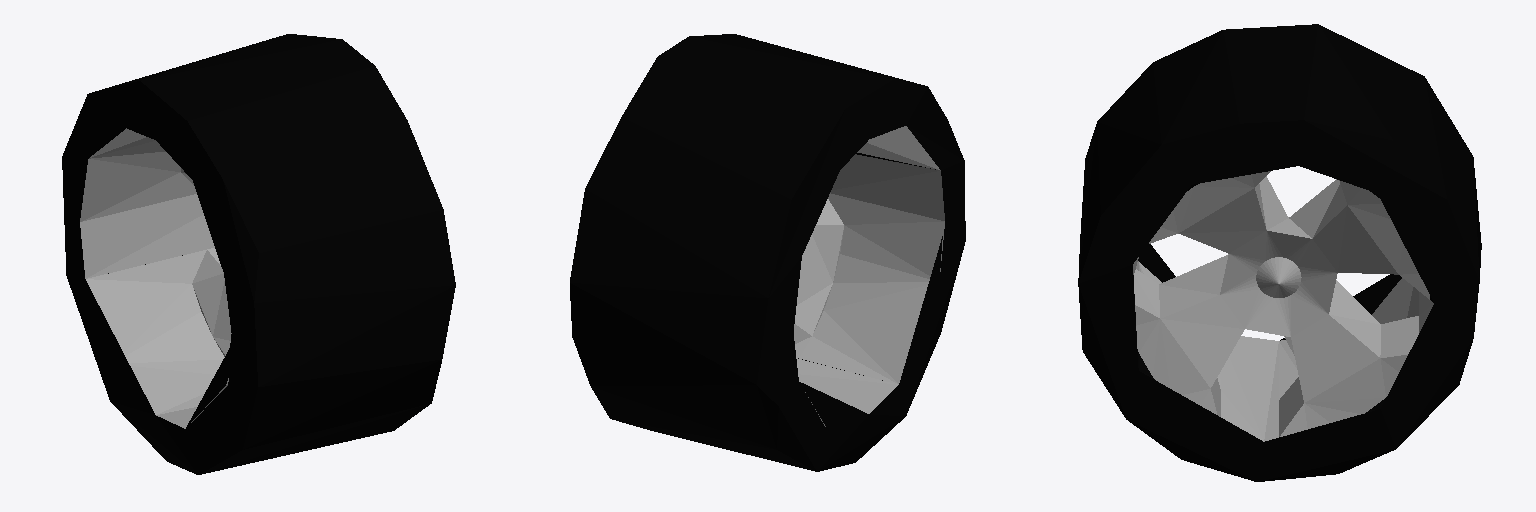
File: toreto_wheel.obj
3 views of the same model, side by side, from view 1: azimuth 30°, elevation 25°; view 2: azimuth 150°, elevation 25°; view 3: azimuth 270°, elevation 25° (orthographic).
Visible parts, largest first — view 1: Circle.008; view 2: Circle.008; view 3: Circle.008.
Boxes of the visible parts, x1,y1,x2,y2 form: Circle.008: [62, 34, 455, 474]; Circle.008: [570, 34, 965, 471]; Circle.008: [1078, 24, 1481, 481].
Size of the model in its own units: 0.4006 by 0.6897 by 0.6826.